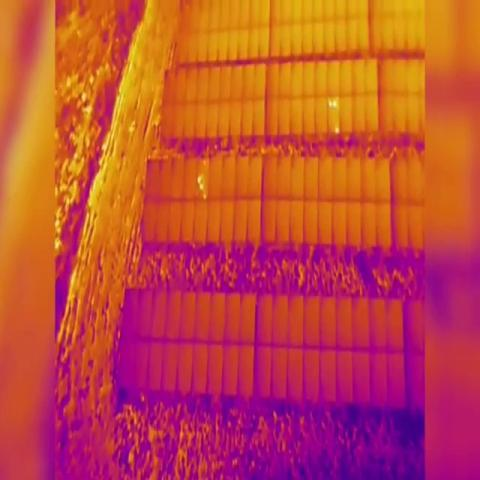fault: (333, 124, 340, 138), (328, 98, 334, 112), (196, 173, 202, 186), (332, 98, 338, 111), (201, 191, 209, 200), (200, 181, 204, 191)
